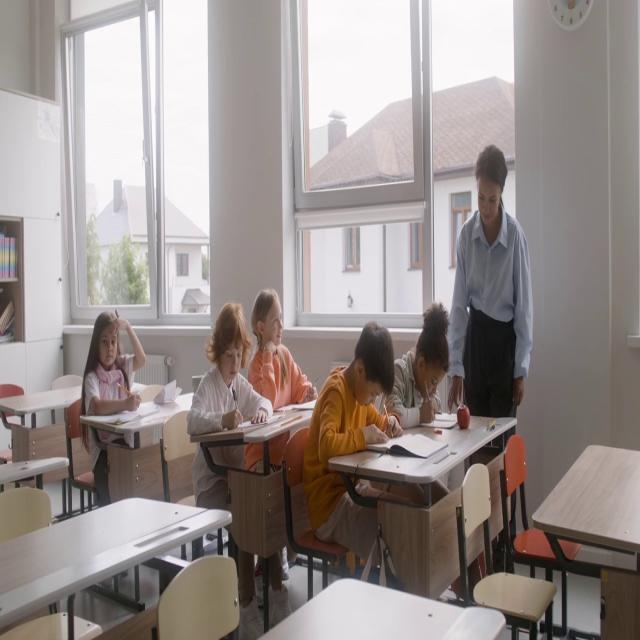listening: (245, 290, 314, 444)
writing: (187, 303, 278, 635), (302, 324, 412, 587), (82, 308, 145, 468), (387, 302, 448, 434)
